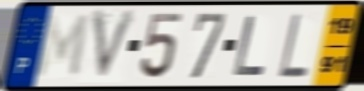5: (139, 11, 186, 81)
7: (190, 11, 227, 81)
L: (231, 13, 269, 78), (276, 12, 309, 80)
M: (33, 12, 92, 81)
V: (90, 7, 141, 85)
